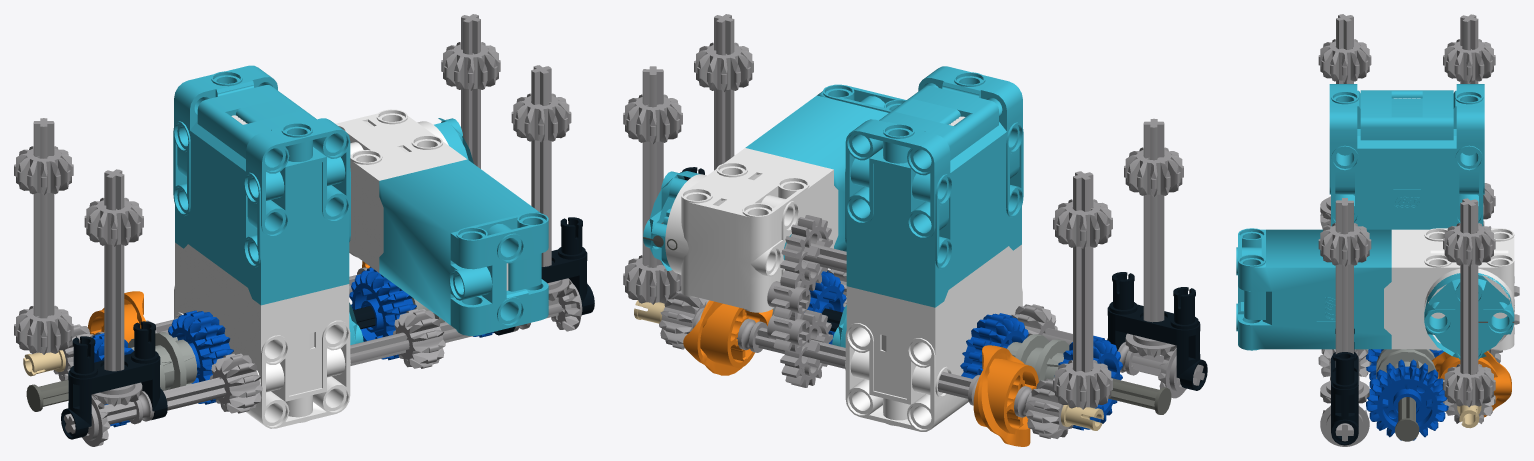
The model's file is getriebe.glb.
3 views of the same model, side by side, from view 1: azimuth 30°, elevation 25°; view 2: azimuth 150°, elevation 25°; view 3: azimuth 270°, elevation 25° (orthographic). The views are drawn at different scales.
Parts seen in each view (by area): view 1: 54675.dat, 54696.dat, 48496.dat.001, 44294.dat.004, 44294.dat.003, 35185.dat, 44294.dat, 48496.dat, 35185.dat.002, 32270.dat.008, 32270.dat.004, 32270.dat.007 (+15 smaller); view 2: 54675.dat, 54696.dat, 48496.dat.001, 35188.dat.001, 35188.dat, 44294.dat.003, 44294.dat.004, 44294.dat.001, 4019.dat, 44294.dat, 32270.dat.007, 32270.dat.009 (+22 smaller); view 3: 54696.dat, 54675.dat, 35185.dat.001, 44294.dat.001, 44294.dat, 48496.dat, 32270.dat.008, 32270.dat.002, 32270.dat.006, 32270.dat.007, 32270.dat.009, 35188.dat (+11 smaller).
Boxes of the visible parts, x1=… form: 54675.dat: x1=173, y1=65, x2=363, y2=428; 54696.dat: x1=335, y1=109, x2=548, y2=335; 48496.dat.001: x1=61, y1=321, x2=167, y2=439; 44294.dat.004: x1=33, y1=118, x2=54, y2=318; 44294.dat.003: x1=104, y1=169, x2=124, y2=387; 35185.dat: x1=349, y1=267, x2=416, y2=360; 44294.dat: x1=531, y1=65, x2=551, y2=283; 48496.dat: x1=494, y1=217, x2=594, y2=335; 35185.dat.002: x1=168, y1=310, x2=233, y2=404; 32270.dat.008: x1=511, y1=93, x2=571, y2=142; 32270.dat.004: x1=210, y1=353, x2=262, y2=413; 32270.dat.007: x1=84, y1=197, x2=143, y2=246; 54675.dat: x1=832, y1=66, x2=1023, y2=431; 54696.dat: x1=643, y1=84, x2=906, y2=312; 48496.dat.001: x1=1107, y1=272, x2=1207, y2=390; 35188.dat.001: x1=973, y1=345, x2=1038, y2=446; 35188.dat: x1=683, y1=300, x2=772, y2=375; 44294.dat.003: x1=1143, y1=118, x2=1164, y2=322; 44294.dat.004: x1=1073, y1=171, x2=1093, y2=372; 44294.dat.001: x1=642, y1=66, x2=663, y2=267; 4019.dat: x1=780, y1=215, x2=832, y2=290; 44294.dat: x1=714, y1=14, x2=734, y2=170; 32270.dat.007: x1=1124, y1=147, x2=1183, y2=196; 32270.dat.009: x1=1053, y1=199, x2=1112, y2=248; 54696.dat: x1=1236, y1=228, x2=1514, y2=359; 54675.dat: x1=1329, y1=84, x2=1484, y2=349; 35185.dat.001: x1=1366, y1=359, x2=1448, y2=440; 44294.dat.001: x1=1460, y1=198, x2=1478, y2=374; 44294.dat: x1=1335, y1=198, x2=1353, y2=367; 48496.dat: x1=1331, y1=328, x2=1358, y2=445; 32270.dat.008: x1=1318, y1=223, x2=1371, y2=266; 32270.dat.002: x1=1443, y1=364, x2=1495, y2=407; 32270.dat.006: x1=1443, y1=223, x2=1495, y2=266; 32270.dat.007: x1=1318, y1=39, x2=1371, y2=82; 32270.dat.009: x1=1443, y1=39, x2=1495, y2=82; 35188.dat: x1=1431, y1=351, x2=1511, y2=417.
Size of the model in its own units: 3.4 by 1.8 by 1.82.
